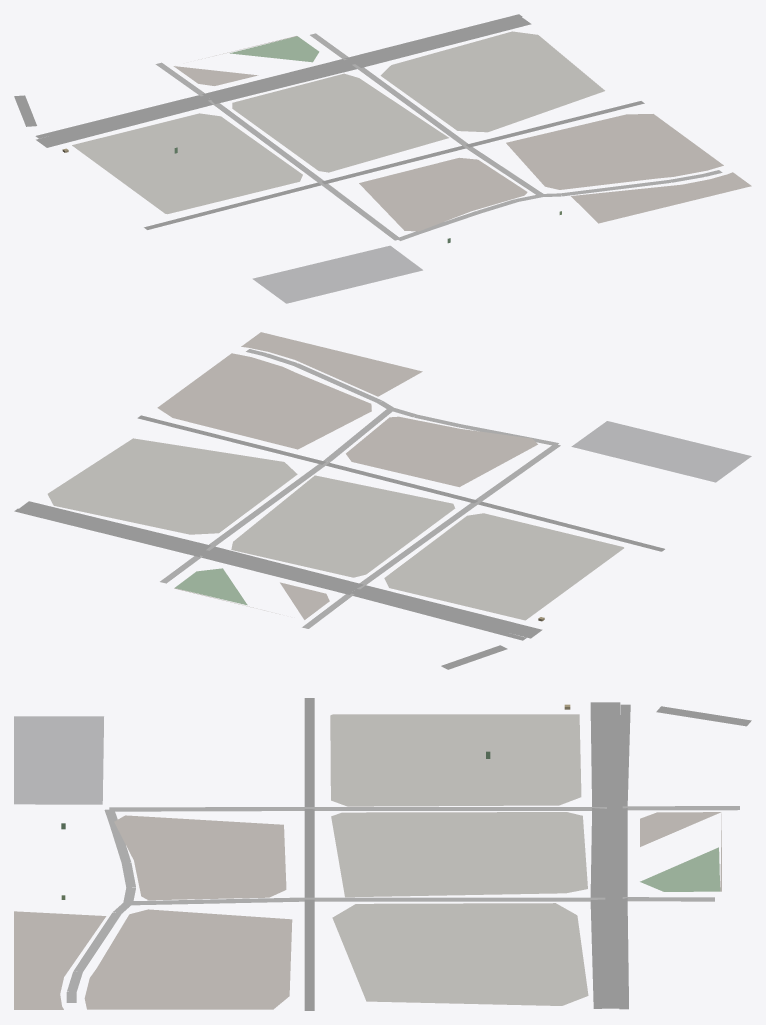
3 renders of one model, top to bottom at view 1: azimuth 30°, elevation 25°; view 2: azimuth 150°, elevation 25°; view 3: azimuth 270°, elevation 25°, orthographic. The views are drawn at different scales.
Bounding box in the file's own units: 534 × 7.69 × 521.
